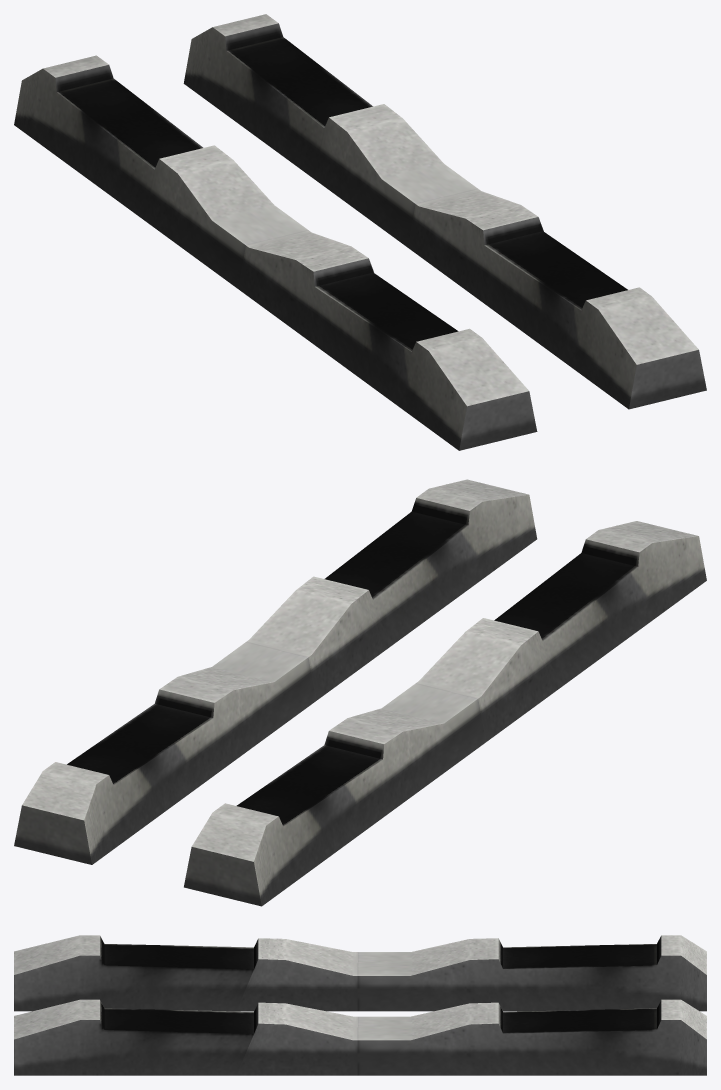
File: spala_only2.fbx
The picture shows the model from 3 angles, top to bottom: view 1: azimuth 30°, elevation 25°; view 2: azimuth 150°, elevation 25°; view 3: azimuth 270°, elevation 25°; orthographic projection. The views are drawn at different scales.
Parts seen in each view (by area): view 1: spaly_only_2; view 2: spaly_only_2; view 3: spaly_only_2.
Boxes of the visible parts, x1,y1,x2,y2 form: spaly_only_2: (14,14,706,450); spaly_only_2: (14,479,706,906); spaly_only_2: (14,935,706,1075).
Size of the model in its own units: 90.21 by 22.85 by 281.
